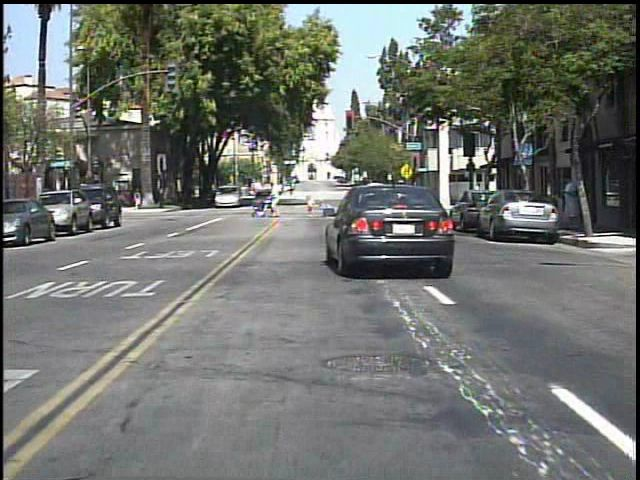person: (556, 172, 578, 234), (269, 179, 286, 220), (155, 183, 169, 212), (132, 186, 143, 213)
